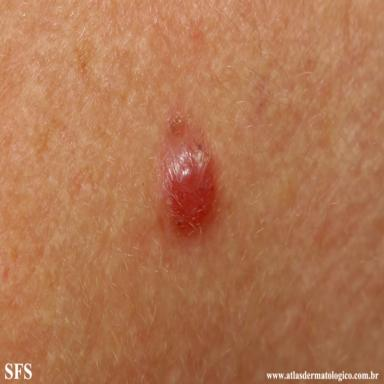basal-cell-carcinoma: (161, 146, 219, 235)
